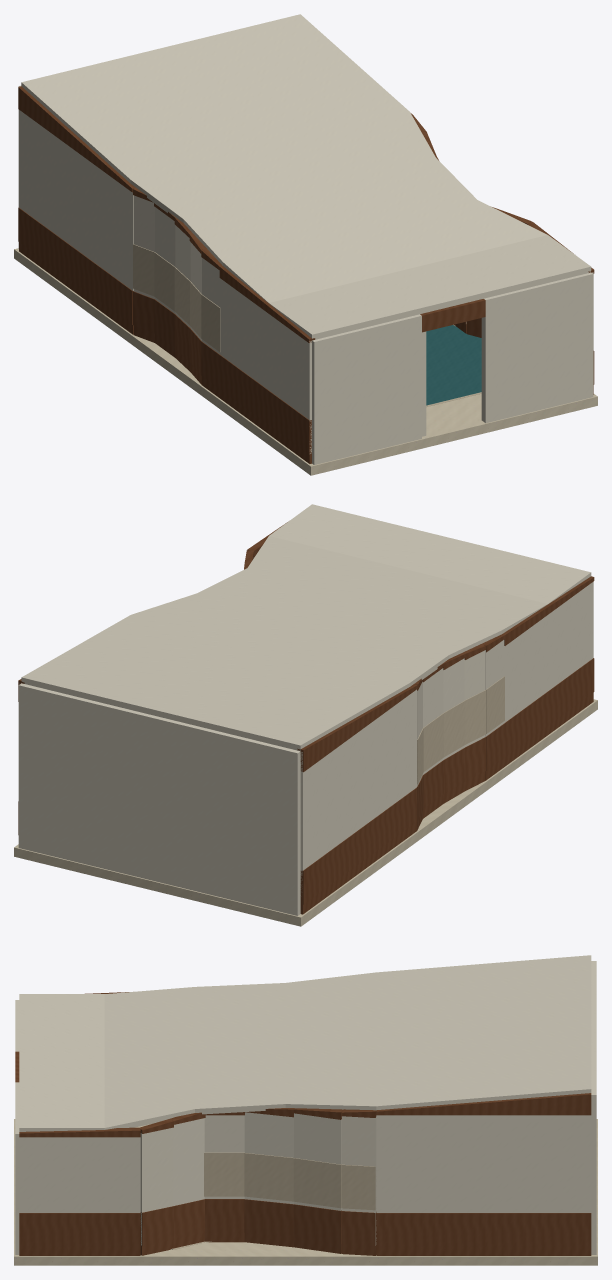
Rendered from shell.glb.
3 views of the same model, one above another, from view 1: azimuth 30°, elevation 25°; view 2: azimuth 150°, elevation 25°; view 3: azimuth 270°, elevation 25° (orthographic).
Parts seen in each view (by area): view 1: SUI_Runtime_ivory_enamel, SUI_Runtime_warm_walnut, SUI_Runtime_warm_stone, SUI_Runtime_oatmeal_weave, SUI_Runtime_teal_weave; view 2: SUI_Runtime_ivory_enamel, SUI_Runtime_warm_walnut, SUI_Runtime_warm_stone, SUI_Runtime_oatmeal_weave; view 3: SUI_Runtime_ivory_enamel, SUI_Runtime_warm_walnut, SUI_Runtime_warm_stone, SUI_Runtime_oatmeal_weave.
Boxes of the visible parts, x1,y1,x2,y2 form: SUI_Runtime_ivory_enamel: (18, 14, 593, 464); SUI_Runtime_warm_walnut: (18, 86, 594, 463); SUI_Runtime_warm_stone: (14, 248, 597, 475); SUI_Runtime_oatmeal_weave: (133, 244, 481, 406); SUI_Runtime_teal_weave: (426, 325, 481, 405); SUI_Runtime_ivory_enamel: (18, 504, 593, 915); SUI_Runtime_warm_walnut: (18, 522, 594, 914); SUI_Runtime_warm_stone: (14, 699, 597, 926); SUI_Runtime_oatmeal_weave: (417, 676, 504, 784); SUI_Runtime_ivory_enamel: (15, 955, 596, 1254); SUI_Runtime_warm_walnut: (15, 992, 591, 1255); SUI_Runtime_warm_stone: (14, 1119, 597, 1265); SUI_Runtime_oatmeal_weave: (170, 1152, 375, 1249).
Size of the model in its own units: 7.2 by 4.26 by 12.9.
Materials: 7 (6 with a texture image).
